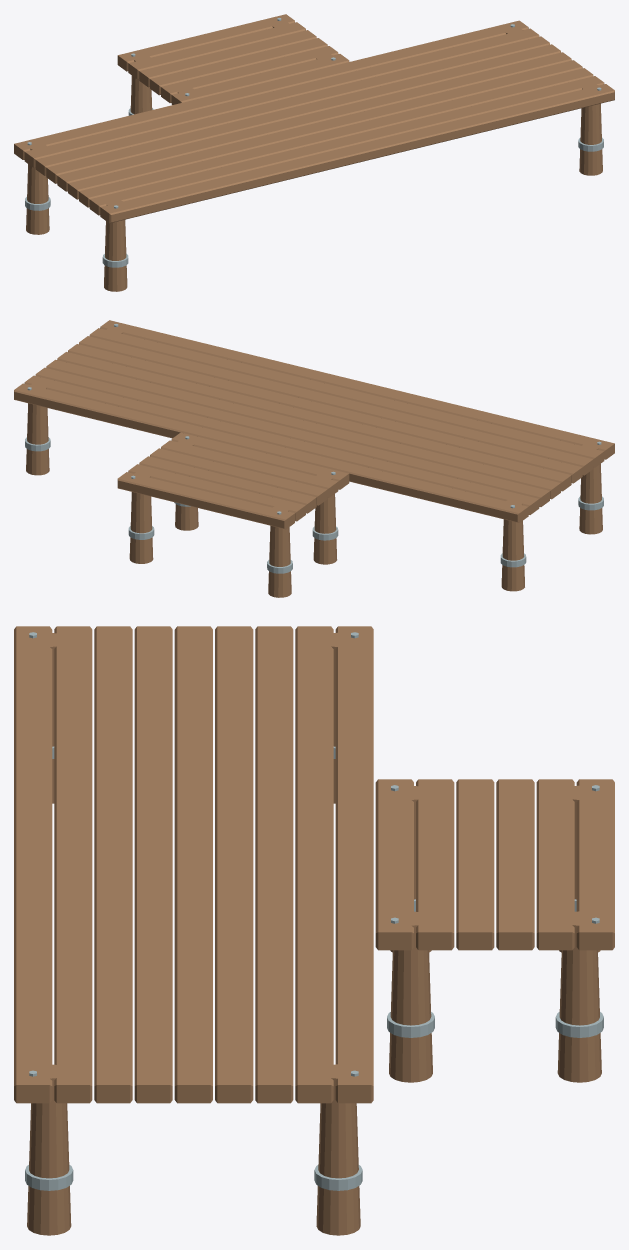
Rendered from harbor-and-tackle-pier-t-junction-6126412d__19558.glb.
3 renders of one model, top to bottom at view 1: azimuth 30°, elevation 25°; view 2: azimuth 150°, elevation 25°; view 3: azimuth 270°, elevation 25°, orthographic. The views are drawn at different scales.
Parts seen in each view (by area): view 1: cedar, metal; view 2: cedar, metal; view 3: cedar, metal.
Boxes of the visible parts, <box> form: cedar: <box>14,14,614,291</box>; metal: <box>25,18,603,267</box>; cedar: <box>14,320,614,597</box>; metal: <box>25,324,603,573</box>; cedar: <box>14,626,614,1235</box>; metal: <box>25,632,603,1190</box>.
Size of the model in its own units: 5.4 by 0.8637 by 2.99.
